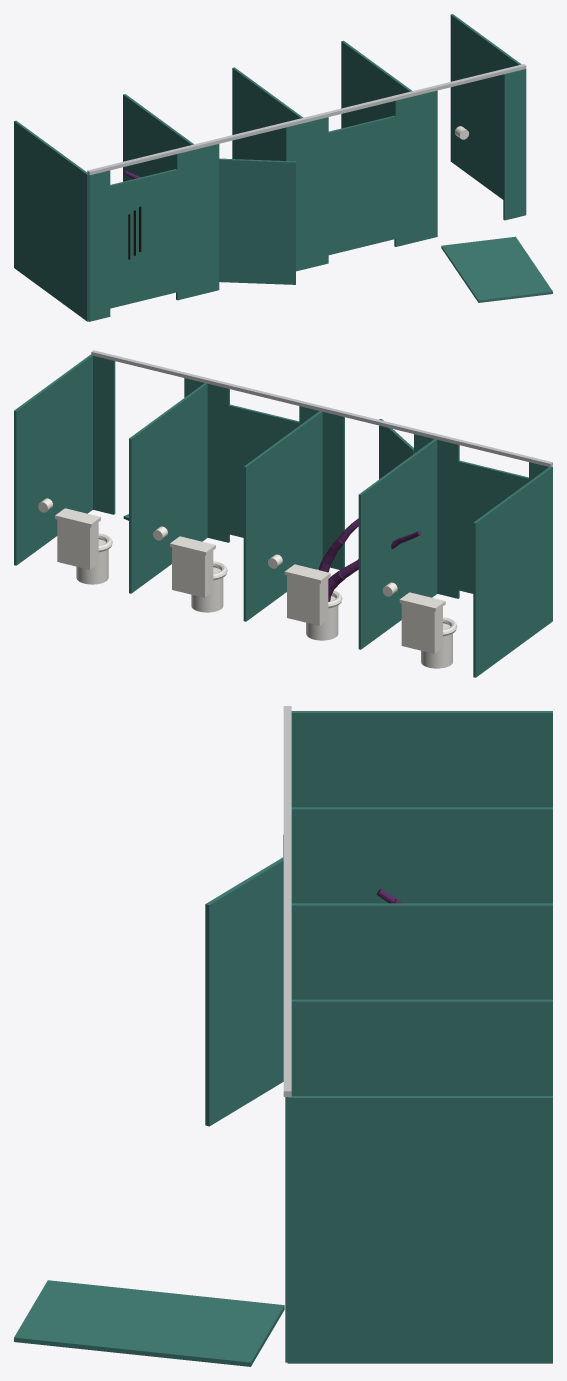
The model's file is SM_80s_BathStalls.glb.
3 views of the same model, one above another, from view 1: azimuth 30°, elevation 25°; view 2: azimuth 150°, elevation 25°; view 3: azimuth 270°, elevation 25° (orthographic). The views are drawn at different scales.
Visible parts, largest first — view 1: SM_80s_BathStalls; view 2: SM_80s_BathStalls; view 3: SM_80s_BathStalls.
Boxes of the visible parts, x1=… form: SM_80s_BathStalls: x1=14, y1=14, x2=552, y2=321; SM_80s_BathStalls: x1=14, y1=350, x2=552, y2=677; SM_80s_BathStalls: x1=14, y1=706, x2=552, y2=1366.
Size of the model in its own units: 5.63 by 1.99 by 3.31.
